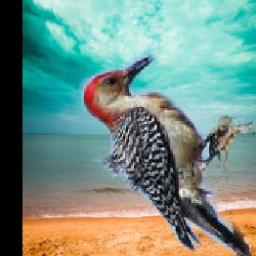Woodpecker: (79, 53, 253, 256)
